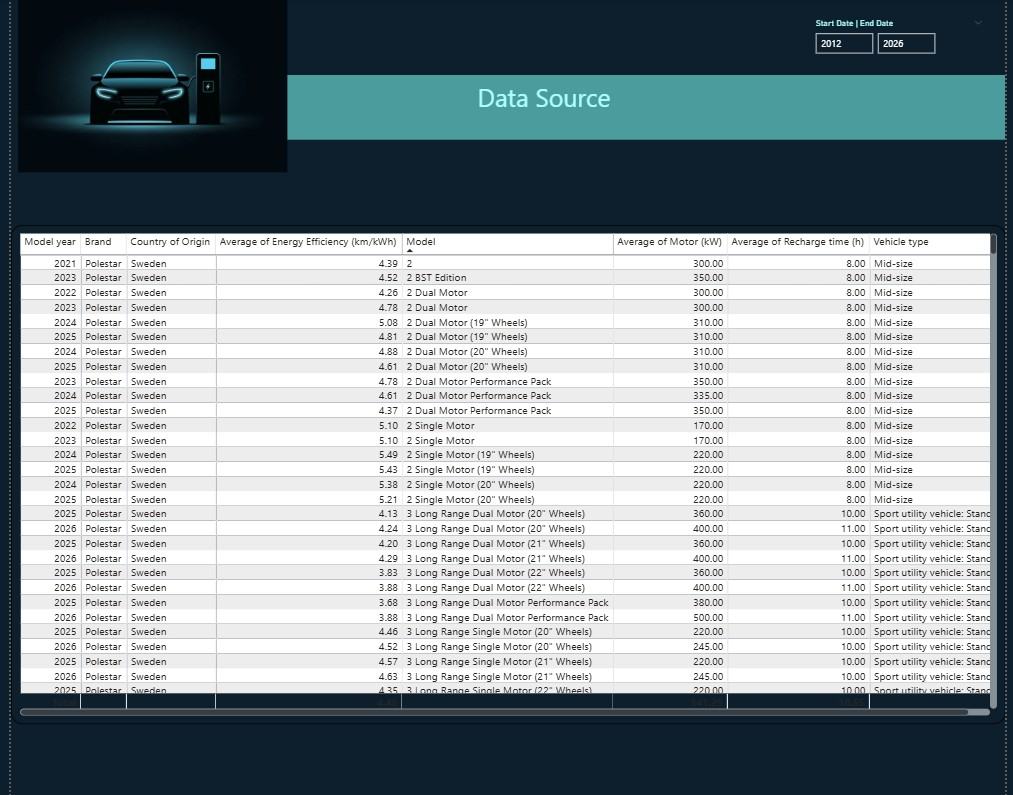

This screenshot's page, from the dashboard's own definition file:
{"tool":"powerbi","page":{"name":"Data Report","canvas":[1280,1100],"ordinal":4},"visuals":[{"type":"textbox","box":[93,97.1,1187.6,83.5],"z":0},{"type":"image","box":[0,0,365.3,221.6],"z":1000},{"type":"slicer","fields":{"Values":["EV Energy Efficiency Dataset.Model year"]},"box":[1017.9,12.3,251.7,75.2],"z":2000},{"type":"tableEx","fields":{"Values":["EV Energy Efficiency Dataset.Model year","EV Energy Efficiency Dataset.Brand","EV Energy Efficiency Dataset.Country of Origin","Avg(EV Energy Efficiency Dataset.Energy Efficiency (km/kWh))","EV Energy Efficiency Dataset.Model","Avg(EV Energy Efficiency Dataset.Motor (kW))","Avg(EV Energy Efficiency Dataset.Recharge time (h))","EV Energy Efficiency Dataset.Vehicle type"]},"box":[0,290,1280.6,643],"z":3000}]}

Visuals, with their boxes on the page's 1280x1100 design canvas (x1, y1, x2, y2). These are canvas units, not pixel positions in the 1013x795 screenshot, which may show the page scaled, cropped or inside an application window:
textbox: rect(93, 97, 1281, 181)
image: rect(0, 0, 365, 222)
slicer - EV Energy Efficiency Dataset.Model year: rect(1018, 12, 1270, 88)
tableEx - EV Energy Efficiency Dataset.Model year x EV Energy Efficiency Dataset.Brand: rect(0, 290, 1281, 933)
